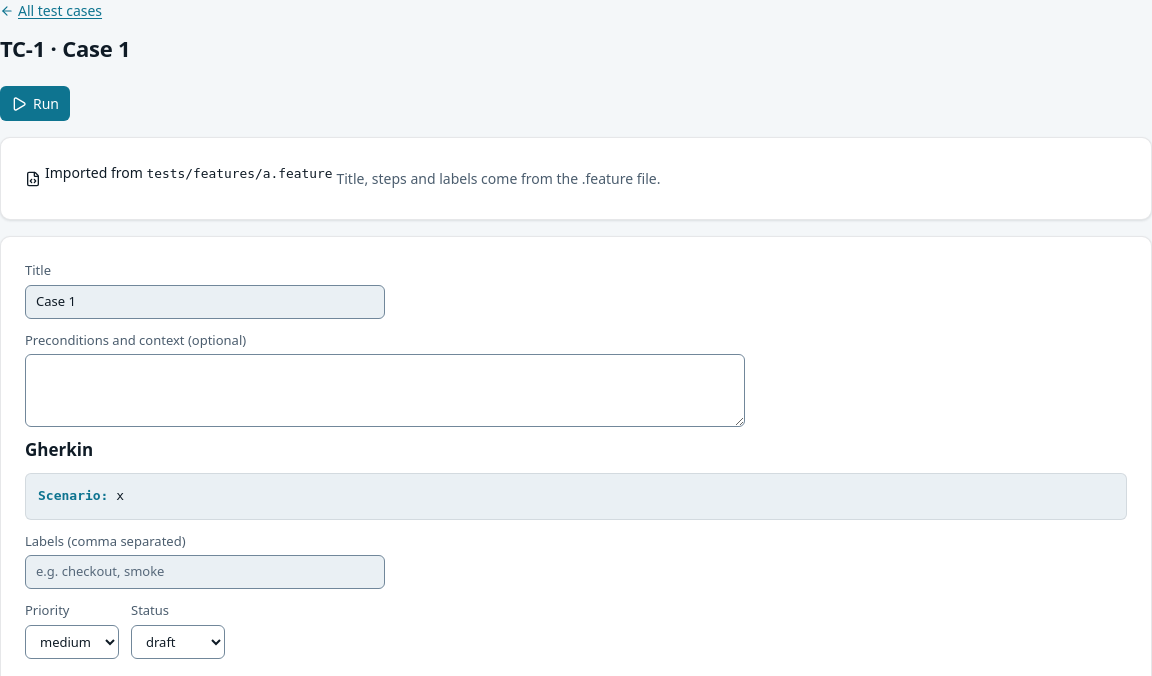
Test case: with no history at all the dialog says so
The width and height of the screenshot is (1152, 676).
What coordinates should you click on to do the following:
click the button "Run"
I would click on:
 (35, 104)
Its box is [0,86,70,121].
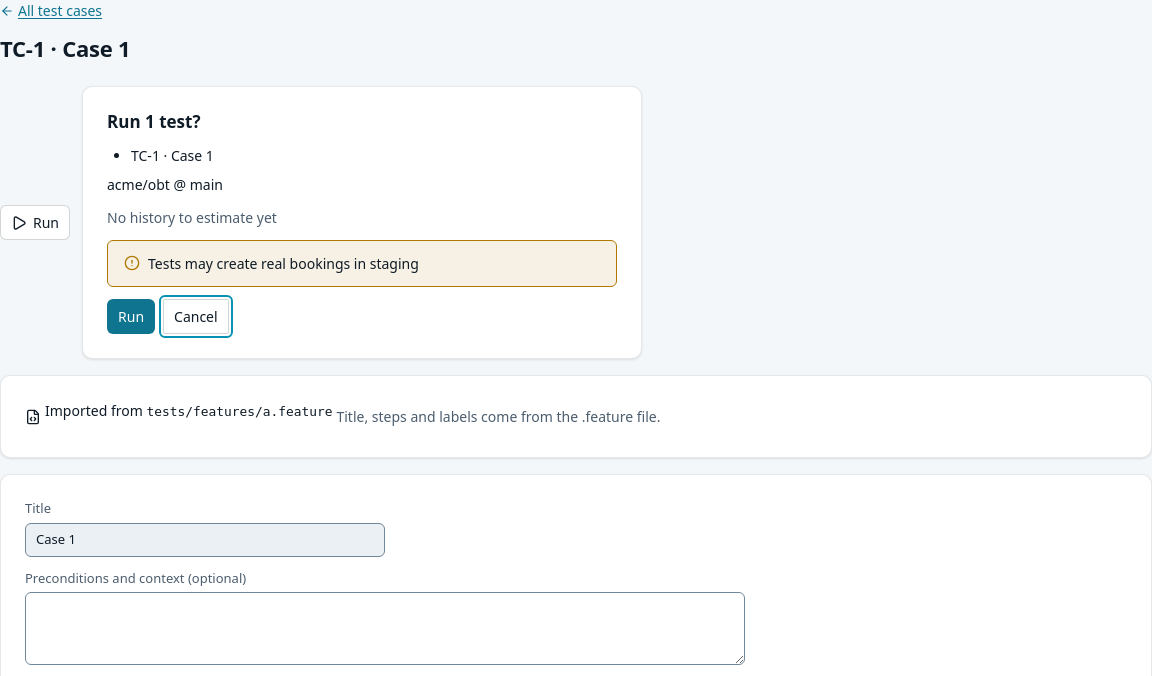
Check: the text "No history to estimate yet" is shown, box [107,208,277,227]
